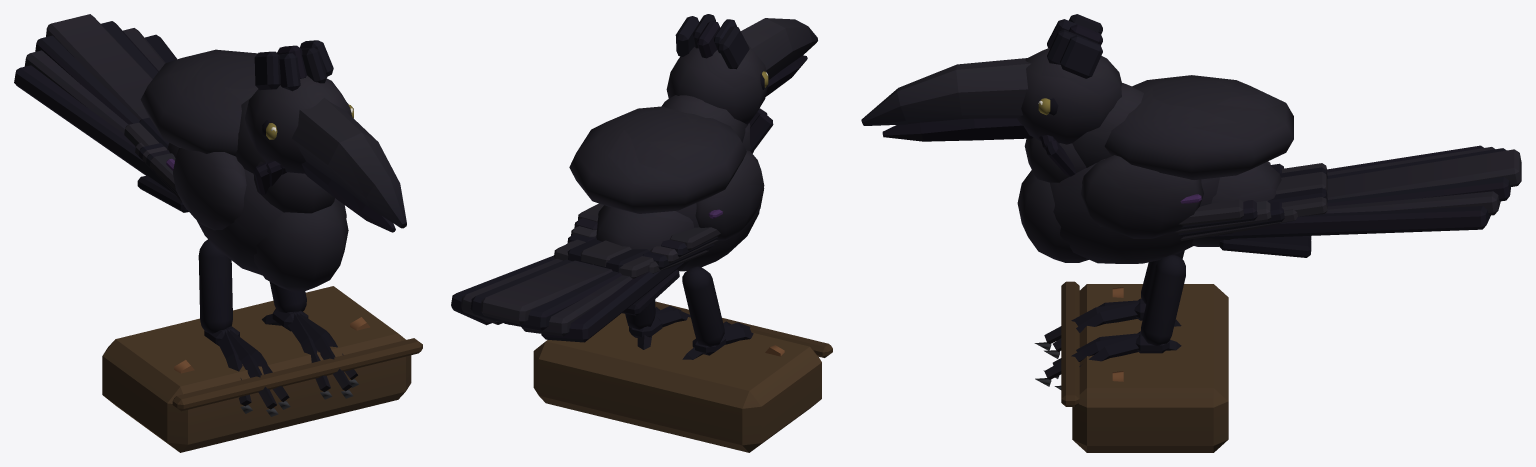
File: raven_01.glb
3 renders of one model, left to right at view 1: azimuth 30°, elevation 25°; view 2: azimuth 150°, elevation 25°; view 3: azimuth 270°, elevation 25°, orthographic. The views are drawn at different scales.
Visible parts, largest first — view 1: raven_01; view 2: raven_01; view 3: raven_01.
Part boxes in pixels (<box>): raven_01: <box>14,14,422,452</box>; raven_01: <box>451,14,832,452</box>; raven_01: <box>861,14,1521,452</box>.
Size of the model in its own units: 0.302 by 0.4512 by 0.7187.
